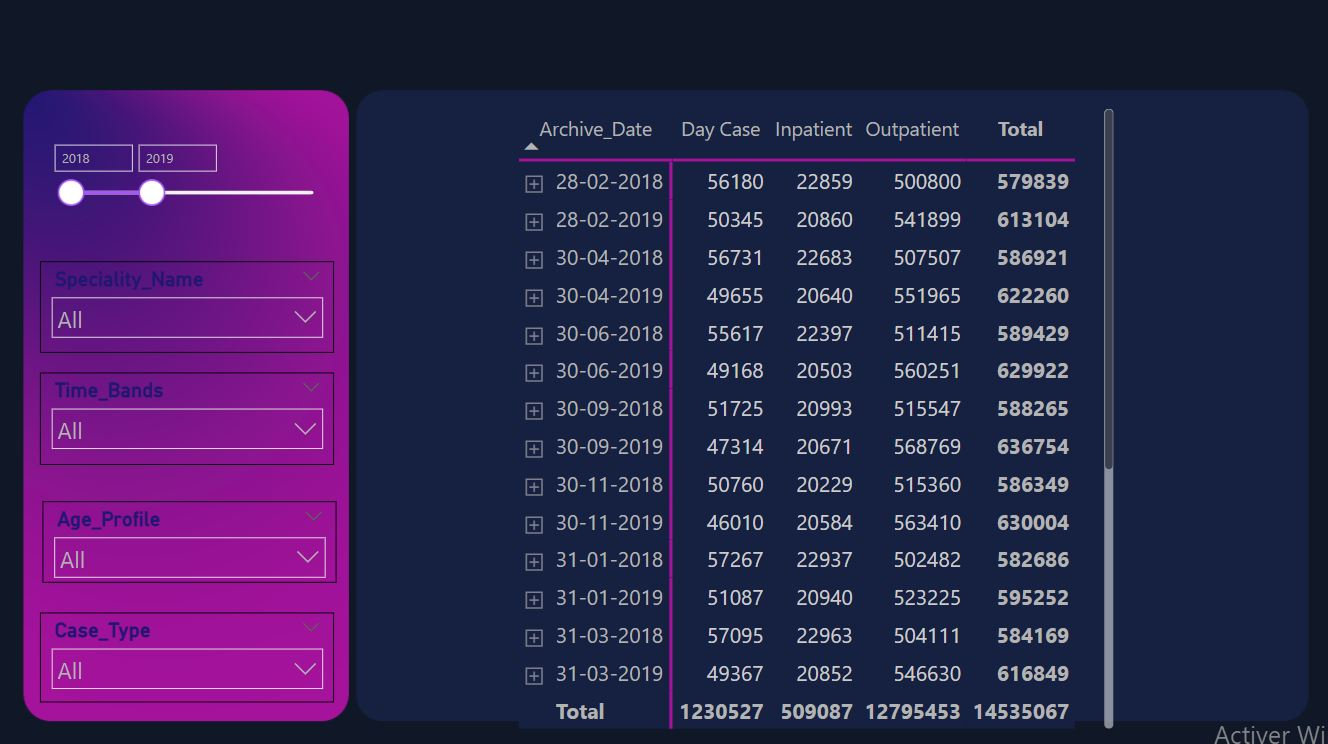

What the dashboard file says about the page in this screenshot:
{"tool":"powerbi","page":{"name":"details","canvas":[1280,720],"ordinal":0},"visuals":[{"type":"slicer","fields":{"Values":["all_data.Age_Profile"]},"box":[44.9,482.2,280,77.9],"z":0},{"type":"slicer","fields":{"Values":["all_data.Time_Bands"]},"box":[43.4,359.4,280,88.3],"z":1000},{"type":"slicer","fields":{"Values":["all_data.Speciality_Name"]},"box":[43.4,253.1,280,86.9],"z":2000},{"type":"slicer","fields":{"Values":["all_data.Case_Type"]},"box":[43.4,588.5,280,85.4],"z":3000},{"type":"slicer","fields":{"Values":["all_data.Year"]},"box":[43.8,132.7,280.3,93.9],"z":4000},{"type":"pivotTable","fields":{"Rows":["all_data.Archive_Date","all_data.Time_Bands","all_data.Speciality_Name","all_data.Age_Profile"],"Columns":["all_data.Case_Type"],"Values":["Sum(all_data.Total)"]},"box":[494.2,103.3,576.5,600.5],"z":5000}]}

Visuals, with their boxes on the page's 1280x720 design canvas (x1, y1, x2, y2). These are canvas units, not pixel positions in the 1328x744 screenshot, which may show the page scaled, cropped or inside an application window:
slicer - all_data.Age_Profile: box=[45, 482, 325, 560]
slicer - all_data.Time_Bands: box=[43, 359, 323, 448]
slicer - all_data.Speciality_Name: box=[43, 253, 323, 340]
slicer - all_data.Case_Type: box=[43, 588, 323, 674]
slicer - all_data.Year: box=[44, 133, 324, 227]
pivotTable - all_data.Archive_Date x all_data.Time_Bands: box=[494, 103, 1071, 704]
